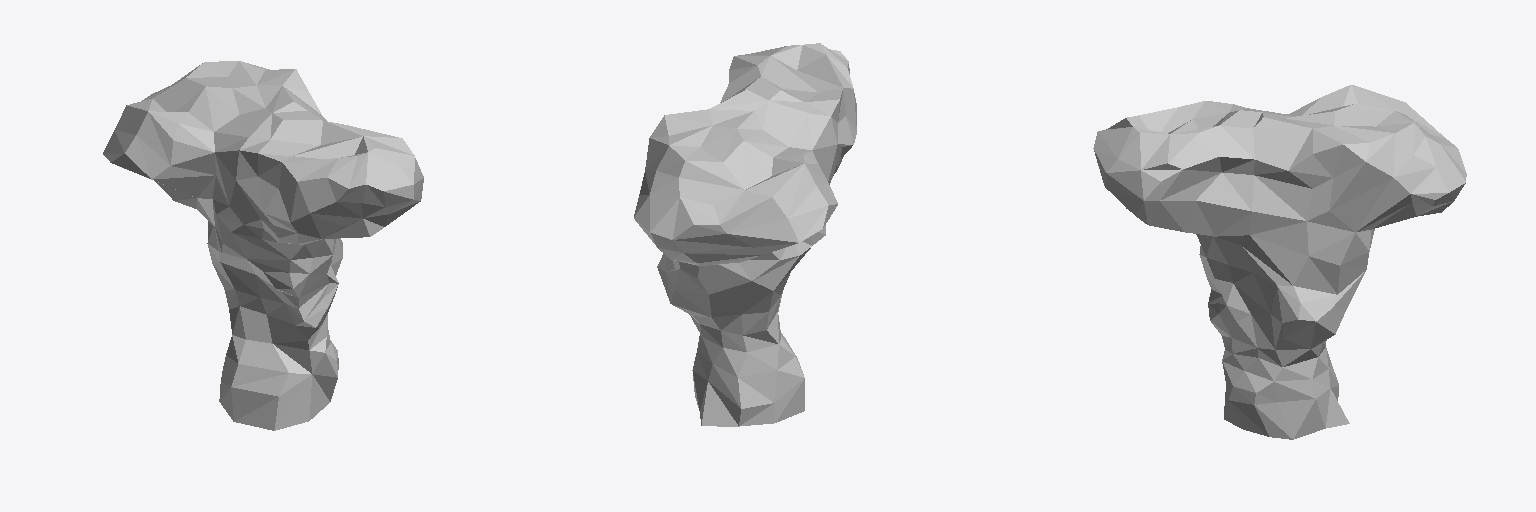
Rendered from Rock1_LowPolyMesh.obj.
The picture shows the model from 3 angles: view 1: azimuth 30°, elevation 25°; view 2: azimuth 150°, elevation 25°; view 3: azimuth 270°, elevation 25°; orthographic projection.
Visible parts, largest first — view 1: rock1_LowPolyMesh; view 2: rock1_LowPolyMesh; view 3: rock1_LowPolyMesh.
Part boxes in pixels (bbox=[...]): rock1_LowPolyMesh: bbox=[103, 61, 423, 430]; rock1_LowPolyMesh: bbox=[634, 43, 856, 426]; rock1_LowPolyMesh: bbox=[1093, 85, 1466, 439].
Size of the model in its own units: 1.09 by 1.6 by 1.77.